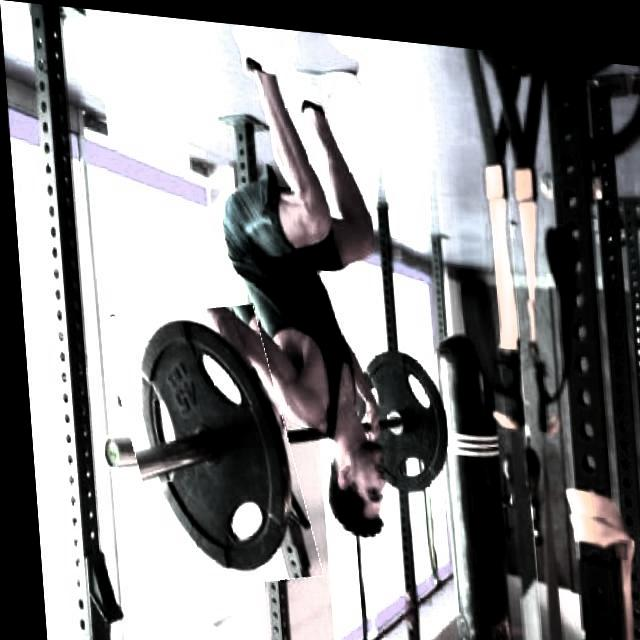barbell: (106, 295, 305, 592)
